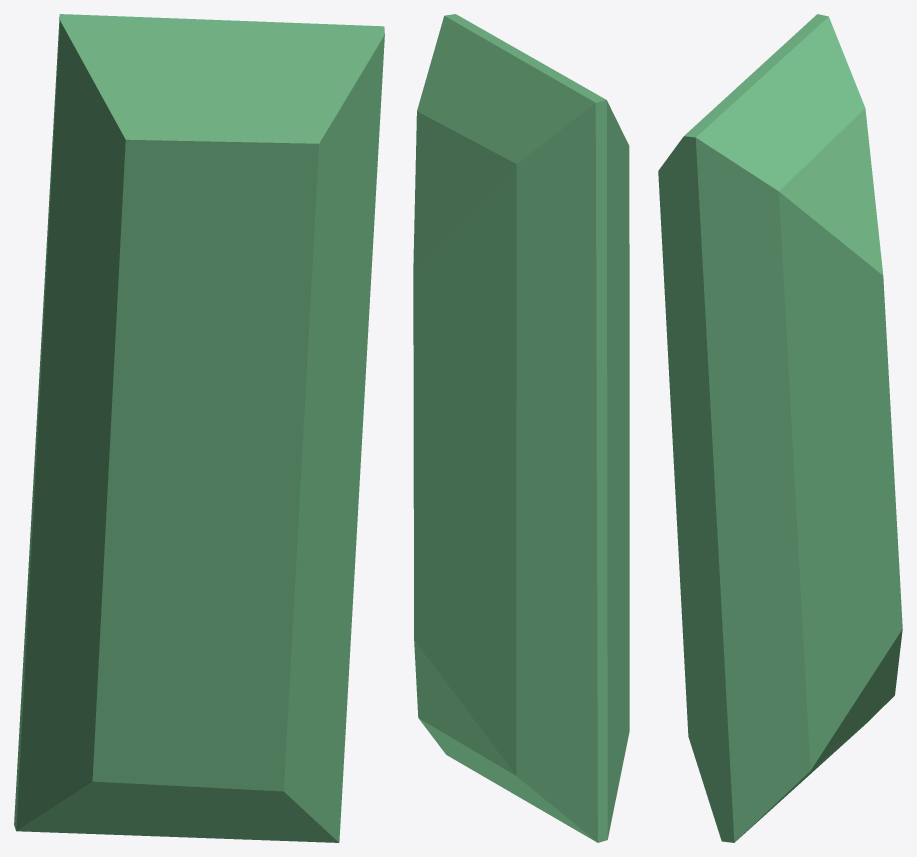
Rendered from TL1_Spacers_BaguetteStone.001 3.glb.
3 views of the same model, side by side, from view 1: azimuth 30°, elevation 25°; view 2: azimuth 150°, elevation 25°; view 3: azimuth 270°, elevation 25° (orthographic). The views are drawn at different scales.
Parts seen in each view (by area): view 1: TL1_Spacers_BaguetteStone.001; view 2: TL1_Spacers_BaguetteStone.001; view 3: TL1_Spacers_BaguetteStone.001.
Boxes of the visible parts, bbox=[...] form: TL1_Spacers_BaguetteStone.001: bbox=[14, 14, 384, 842]; TL1_Spacers_BaguetteStone.001: bbox=[413, 14, 629, 842]; TL1_Spacers_BaguetteStone.001: bbox=[658, 14, 902, 842].
Size of the model in its own units: 0.1861 by 0.5374 by 0.1627.
